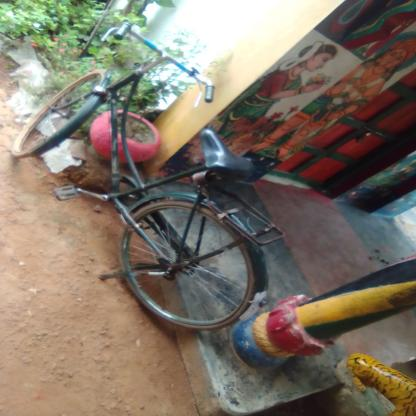bike: (13, 14, 274, 339)
